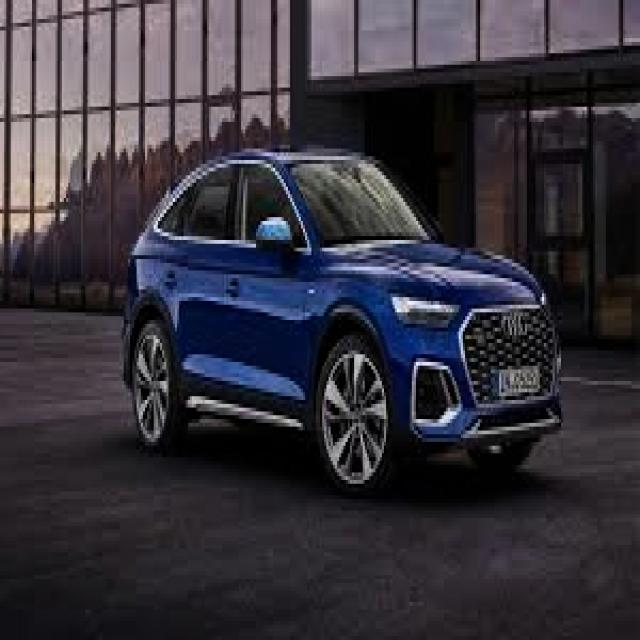blue: (104, 125, 592, 483)
